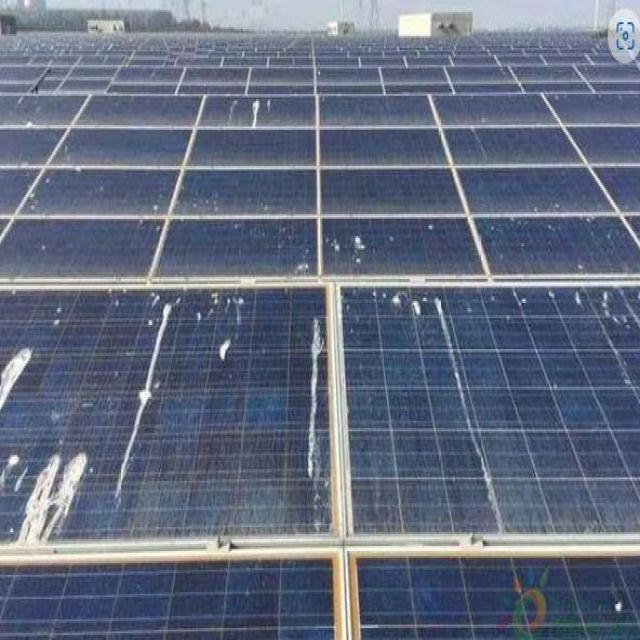soiled: (2, 284, 635, 538), (1, 166, 640, 284), (7, 91, 639, 125)
